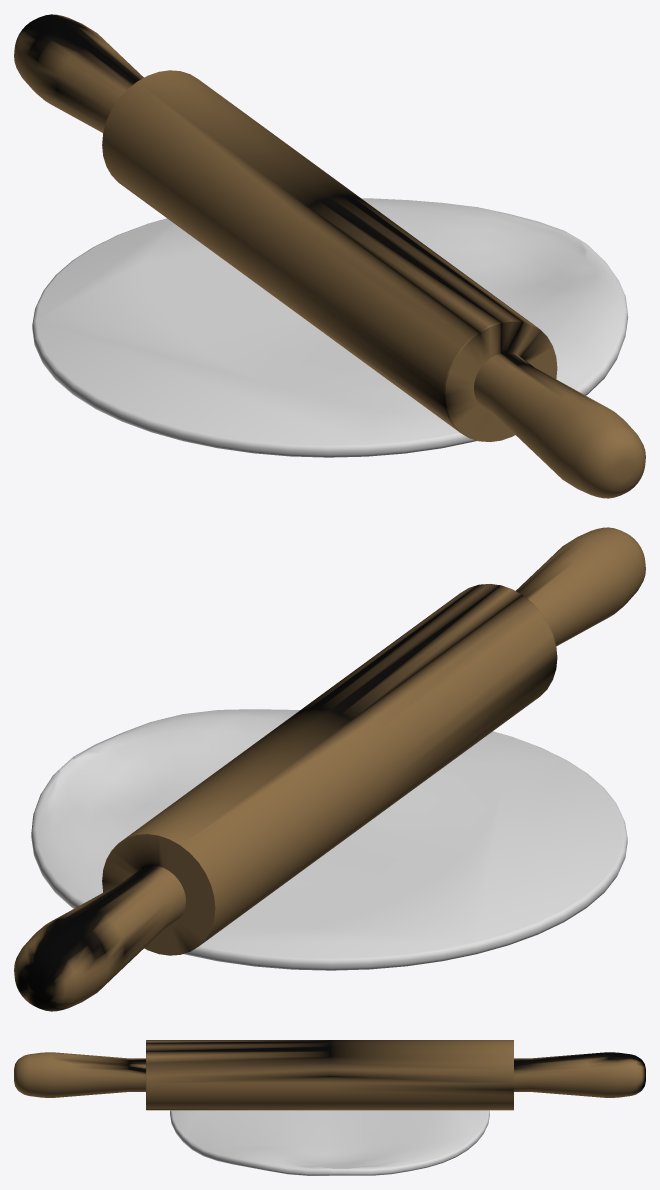
Rendered from Rollingpin.glb.
The picture shows the model from 3 angles, top to bottom: view 1: azimuth 30°, elevation 25°; view 2: azimuth 150°, elevation 25°; view 3: azimuth 270°, elevation 25°; orthographic projection. The views are drawn at different scales.
Parts seen in each view (by area): view 1: Cylinder, BezierCircle.001; view 2: Cylinder, BezierCircle.001; view 3: Cylinder, BezierCircle.001.
Boxes of the visible parts, box(x1,y1,x2,y2) form: Cylinder: box(14, 14, 645, 498); BezierCircle.001: box(32, 198, 628, 457); Cylinder: box(14, 527, 645, 1011); BezierCircle.001: box(31, 709, 627, 970); Cylinder: box(14, 1040, 645, 1110); BezierCircle.001: box(170, 1110, 489, 1175).
Size of the model in its own units: 13.35 by 3.37 by 26.23.
